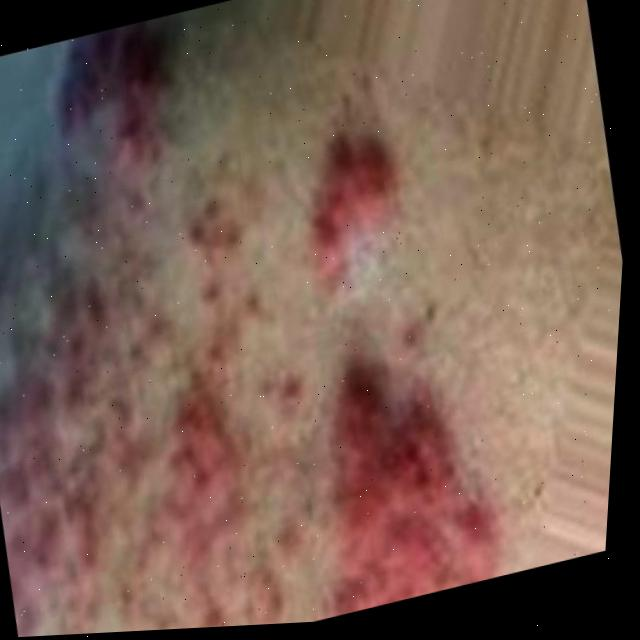Shingles: (0, 88, 302, 640), (306, 340, 531, 615), (272, 136, 433, 305)
